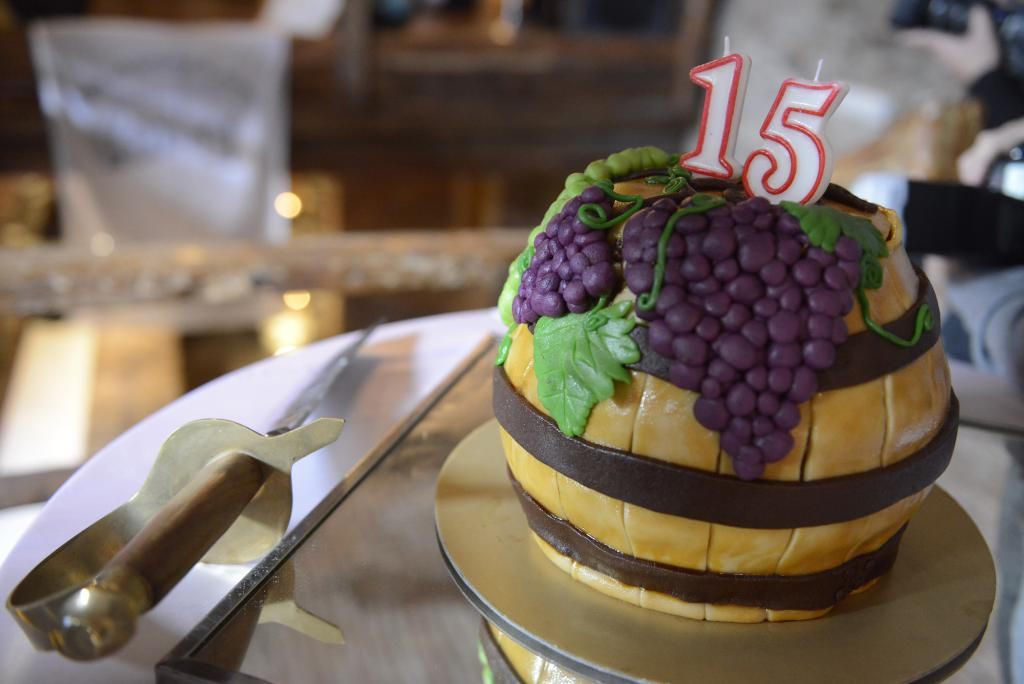cake: (493, 146, 960, 621)
